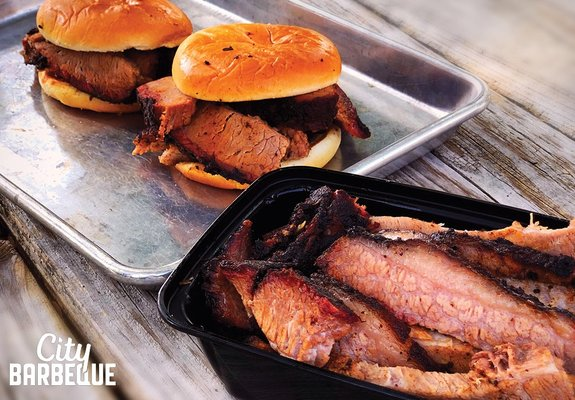soup: (22, 0, 193, 114)
sushi: (157, 165, 572, 397)
